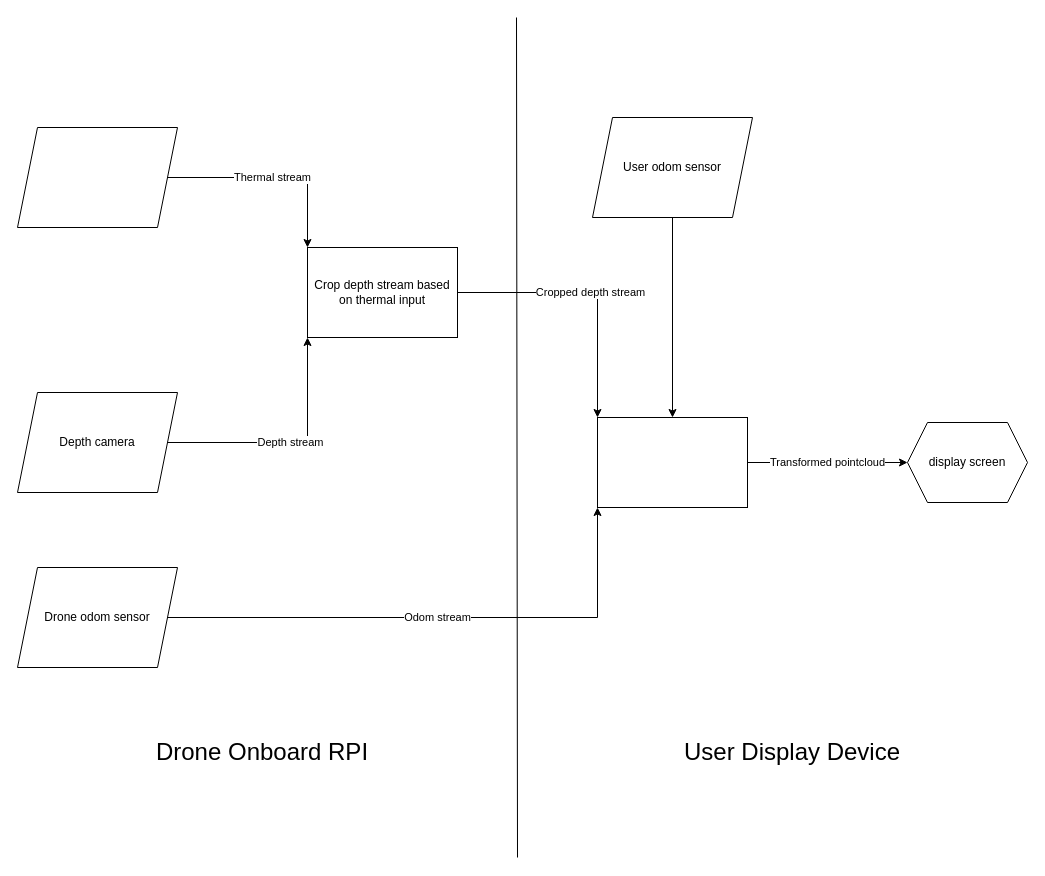
Some shapes in this 1045 by 876 pixel diagram are drawn without their labels. Each missing label, with the box of its shape:
MLX90640 thermal cam: (16, 126, 178, 228)
Transform to pointcloud on user and user pov: (596, 416, 748, 508)
